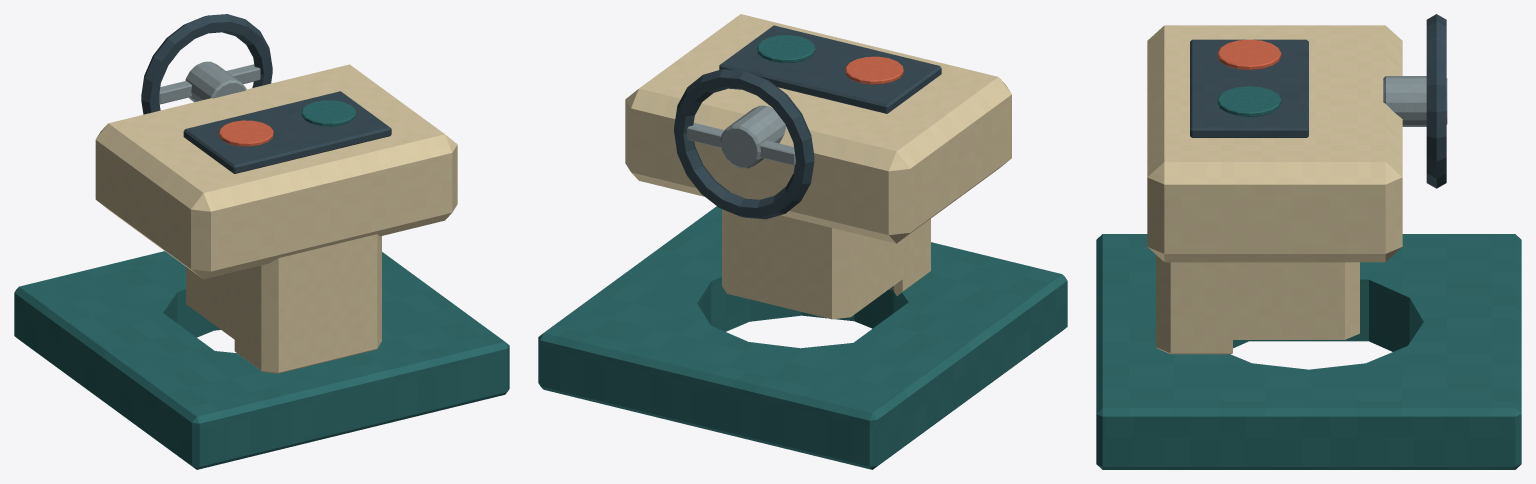
File: helm-lod-1.glb
The picture shows the model from 3 angles, left to right: view 1: azimuth 30°, elevation 25°; view 2: azimuth 150°, elevation 25°; view 3: azimuth 270°, elevation 25°; orthographic projection. The views are drawn at different scales.
Visible parts, largest first — view 1: helm_lod_1; view 2: helm_lod_1; view 3: helm_lod_1.
Boxes of the visible parts, x1=… form: helm_lod_1: x1=14, y1=14, x2=509, y2=469; helm_lod_1: x1=538, y1=14, x2=1067, y2=469; helm_lod_1: x1=1096, y1=14, x2=1521, y2=469.
Bounding box in the file's own units: 1 × 0.937 × 1.
1 material, 1 textured.
